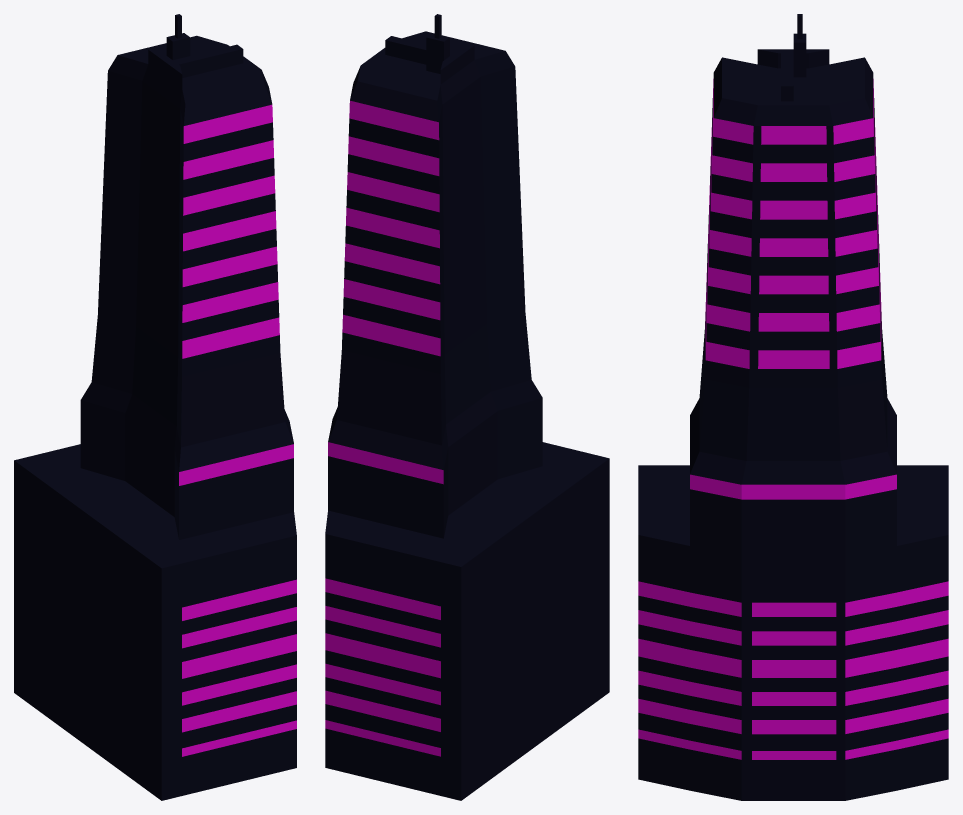
File: Building_FarAwayTower01.fbx
The picture shows the model from 3 angles, left to right: view 1: azimuth 30°, elevation 25°; view 2: azimuth 150°, elevation 25°; view 3: azimuth 270°, elevation 25°; orthographic projection. The views are drawn at different scales.
Parts seen in each view (by area): view 1: Cube.157; view 2: Cube.157; view 3: Cube.157.
Boxes of the visible parts, left/top/right/bottom form: Cube.157: left=14, top=14, right=296, bottom=800; Cube.157: left=325, top=14, right=609, bottom=800; Cube.157: left=638, top=14, right=948, bottom=800.
Size of the model in its own units: 1702 by 6487 by 2458.
